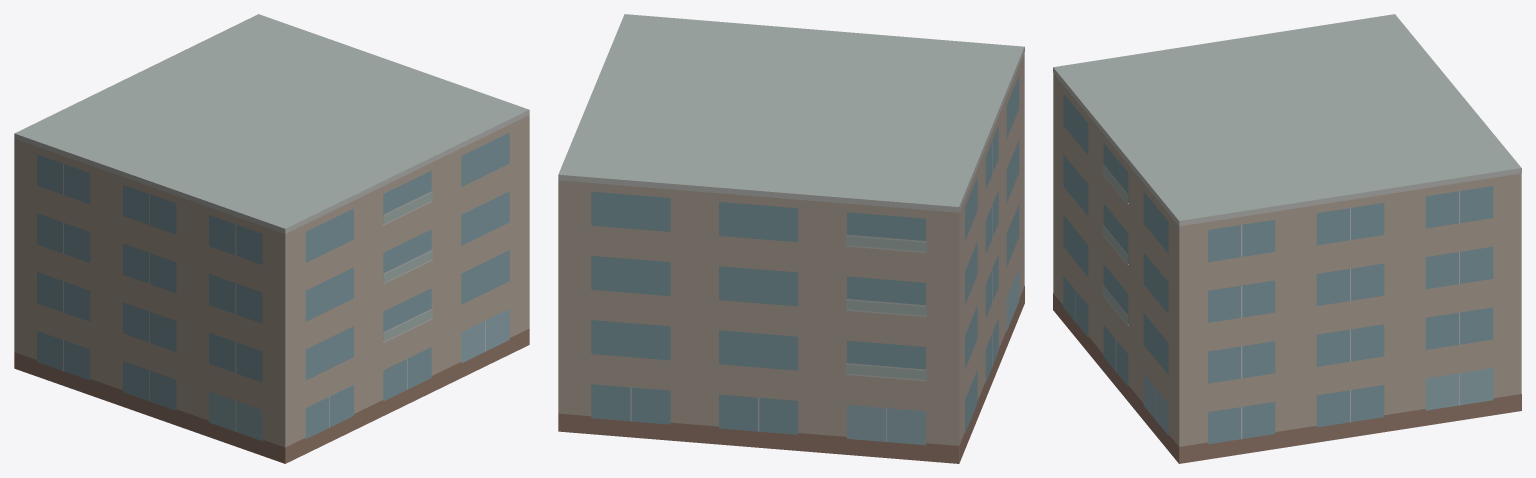
The model's file is survey-upis-32786954.glb.
3 views of the same model, side by side, from view 1: azimuth 30°, elevation 25°; view 2: azimuth 150°, elevation 25°; view 3: azimuth 270°, elevation 25° (orthographic). The views are drawn at different scales.
Parts seen in each view (by area): view 1: survey-upis-32786954.tmp; view 2: survey-upis-32786954.tmp; view 3: survey-upis-32786954.tmp.
Boxes of the visible parts, box(x1,y1,x2,y2) form: survey-upis-32786954.tmp: box(14, 14, 529, 463); survey-upis-32786954.tmp: box(558, 14, 1024, 463); survey-upis-32786954.tmp: box(1053, 14, 1521, 463).
Bounding box in the file's own units: 20.31 × 11.1 × 19.42.
